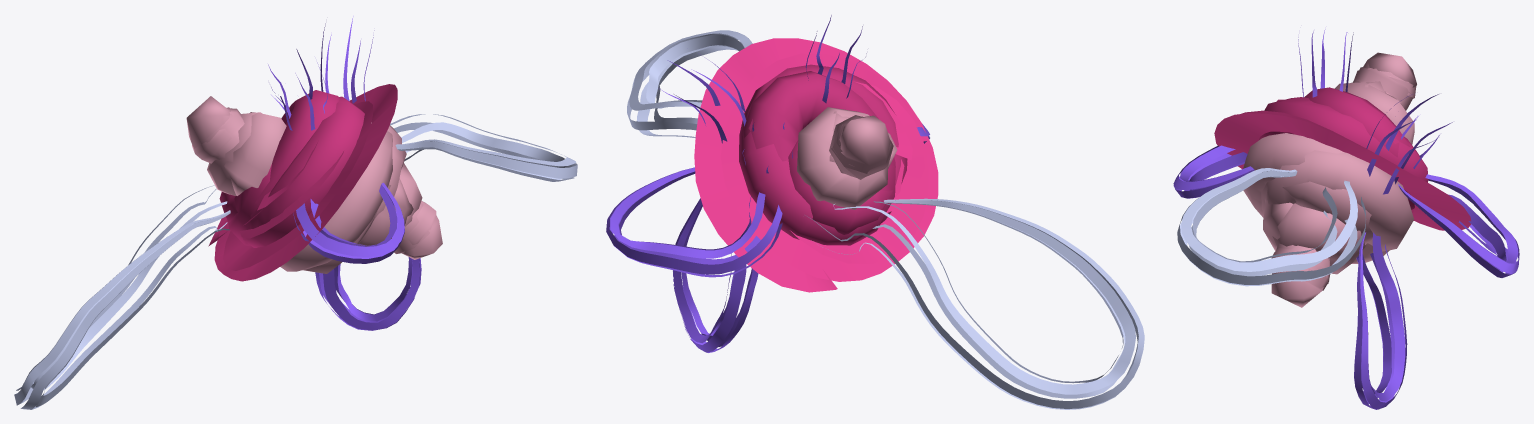
3 renders of one model, left to right at view 1: azimuth 30°, elevation 25°; view 2: azimuth 150°, elevation 25°; view 3: azimuth 270°, elevation 25°, orthographic. The views are drawn at different scales.
Parts seen in each view (by area): view 1: brush_Icing_g0_b0, brush_Petal_g0_b0, brush_WigglyGraphite_g0_b0; view 2: brush_Petal_g0_b0, brush_WigglyGraphite_g0_b0, brush_Icing_g0_b0; view 3: brush_Icing_g0_b0, brush_Petal_g0_b0, brush_WigglyGraphite_g0_b0.
Part boxes in pixels (box(x1,y1,x2,y2)): brush_Icing_g0_b0: box(186, 90, 442, 273); brush_Petal_g0_b0: box(14, 16, 577, 409); brush_WigglyGraphite_g0_b0: box(208, 84, 397, 281); brush_Petal_g0_b0: box(606, 15, 1144, 409); brush_WigglyGraphite_g0_b0: box(694, 38, 938, 292); brush_Icing_g0_b0: box(739, 64, 907, 245); brush_Icing_g0_b0: box(1243, 52, 1428, 307); brush_Petal_g0_b0: box(1173, 29, 1519, 409); brush_WigglyGraphite_g0_b0: box(1214, 99, 1471, 230).
Bounding box in the file's own units: 0.3034 × 0.182 × 0.1718.
